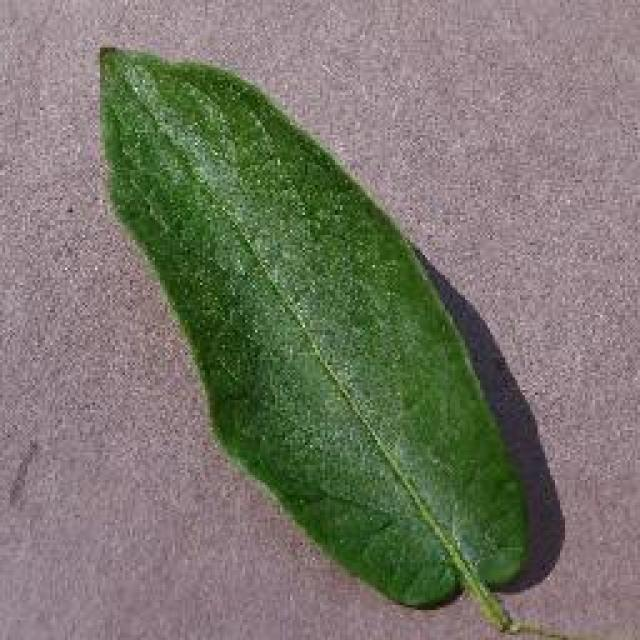Potato: (95, 40, 530, 615)
